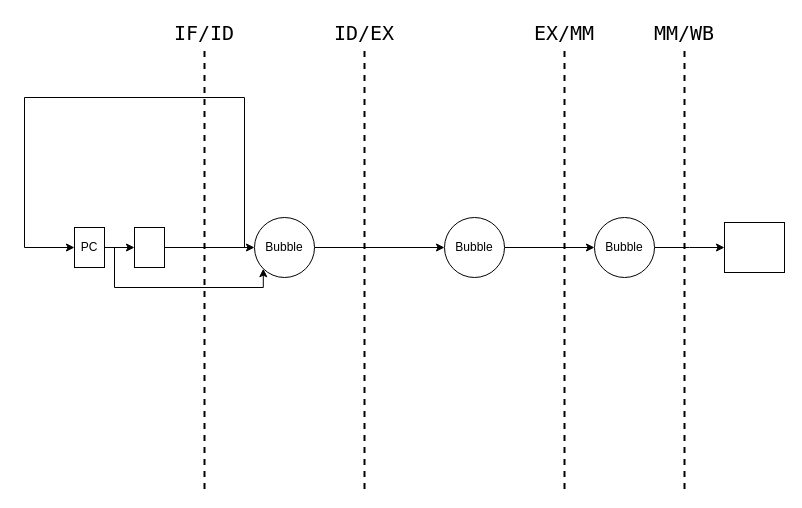
Some shapes in this 802 by 508 pixel diagram are drawn without their labels. The shapes that lost their labels are listed below. From the top down, each one's centre as x and y in pixels, then its label:
(149,247): IM
(754,247): $ra
